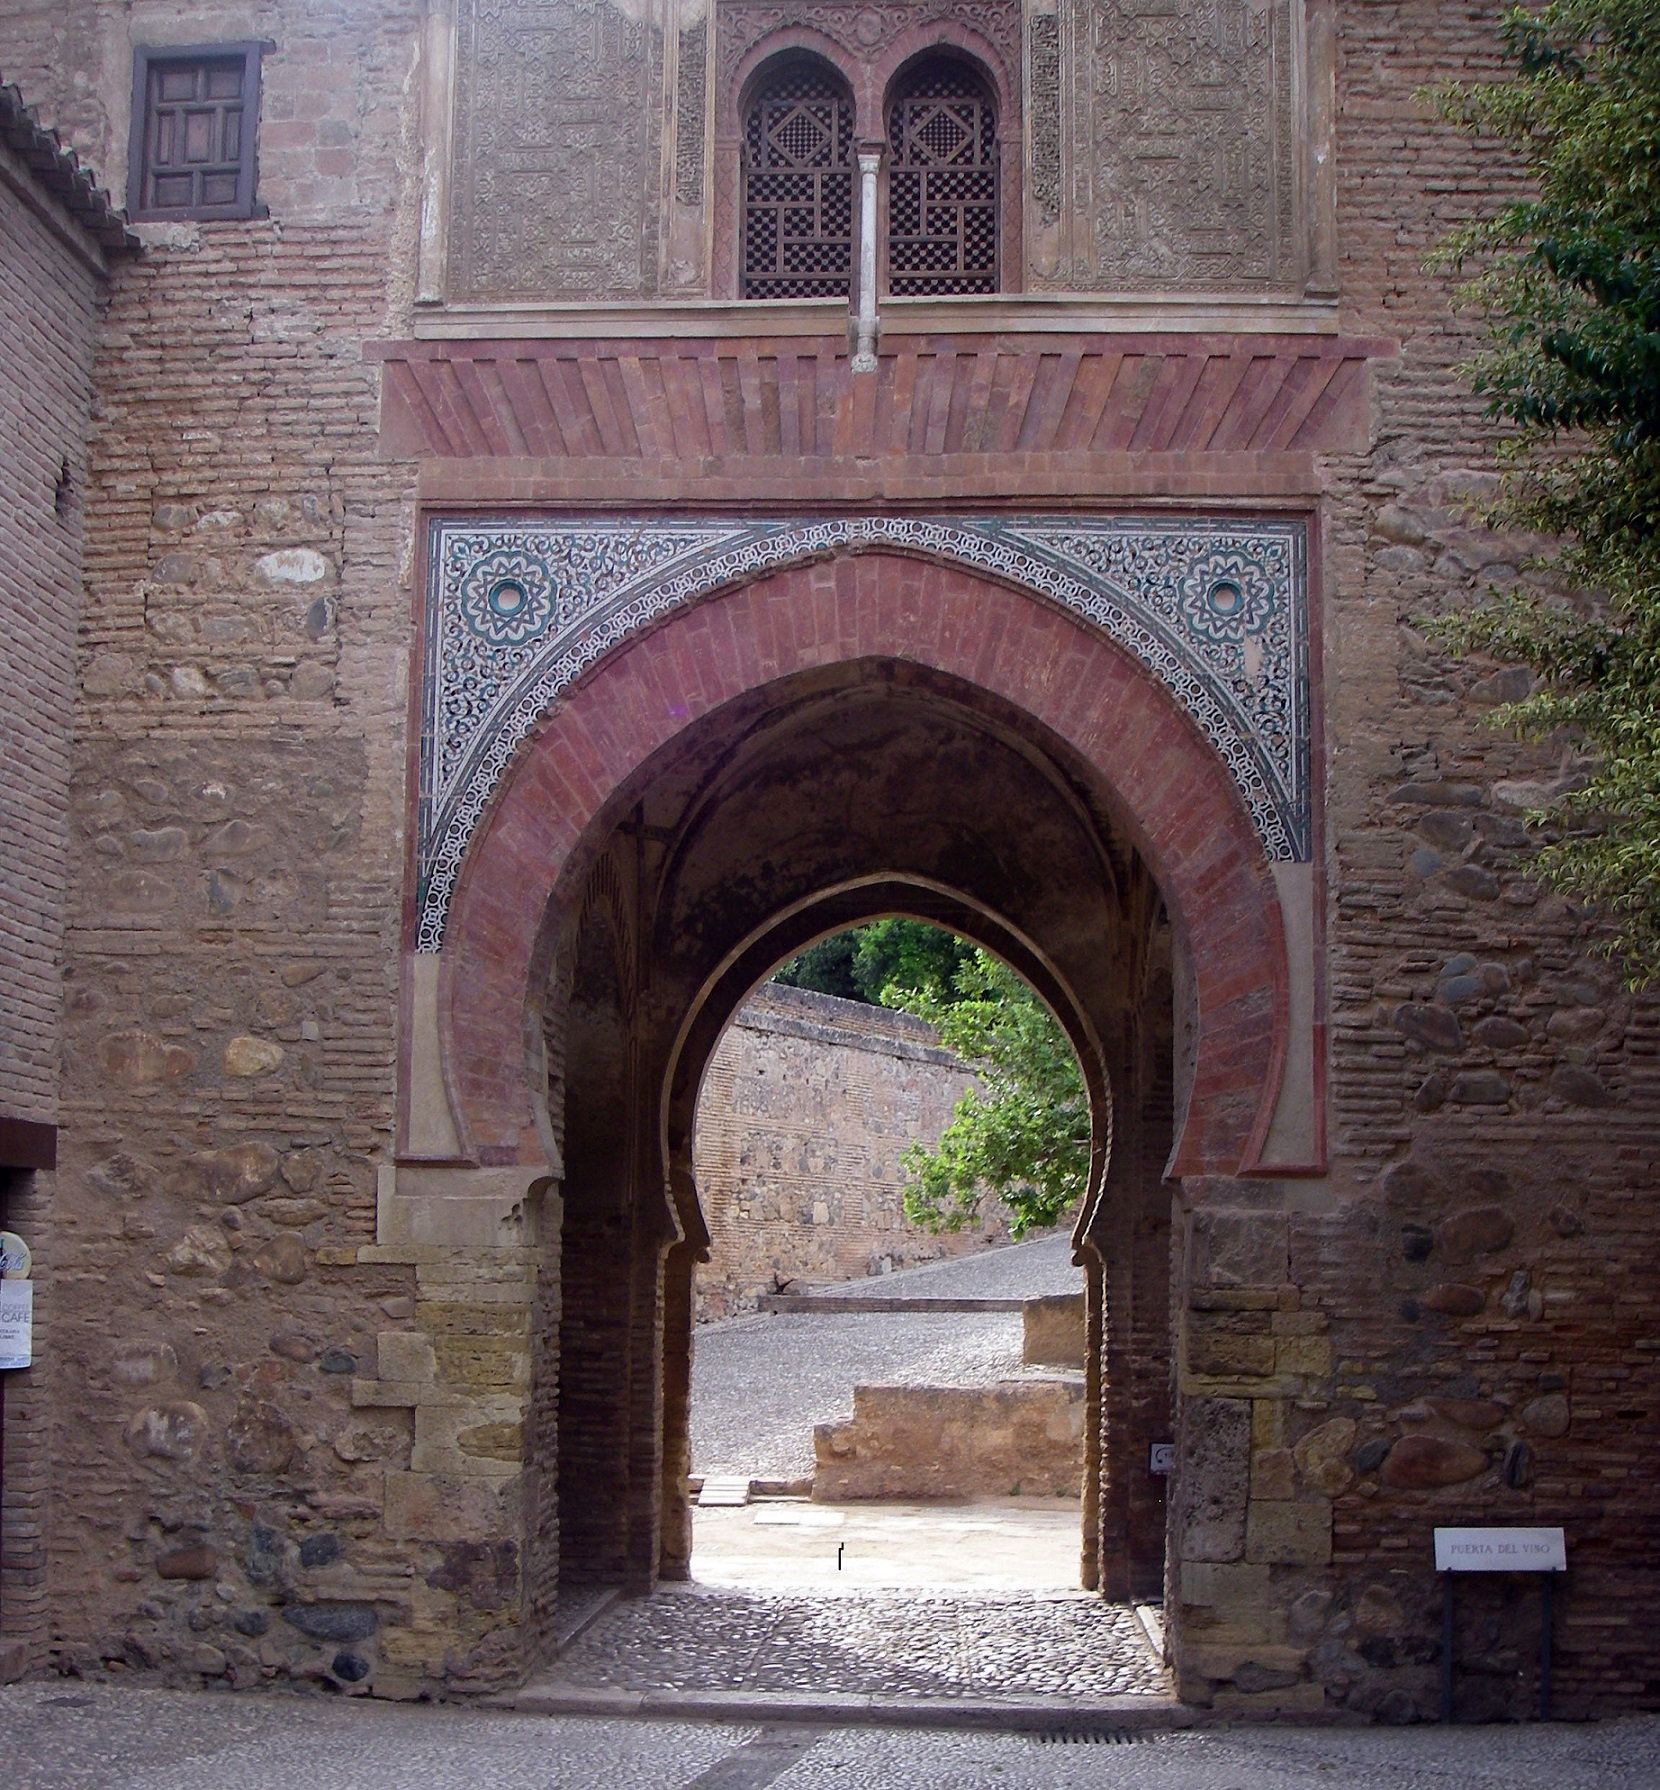arco-herradura: (495, 634, 1240, 1248), (658, 882, 1130, 1287), (869, 34, 1013, 172), (732, 34, 871, 169)
dintel-adovelado: (381, 350, 1364, 474)
